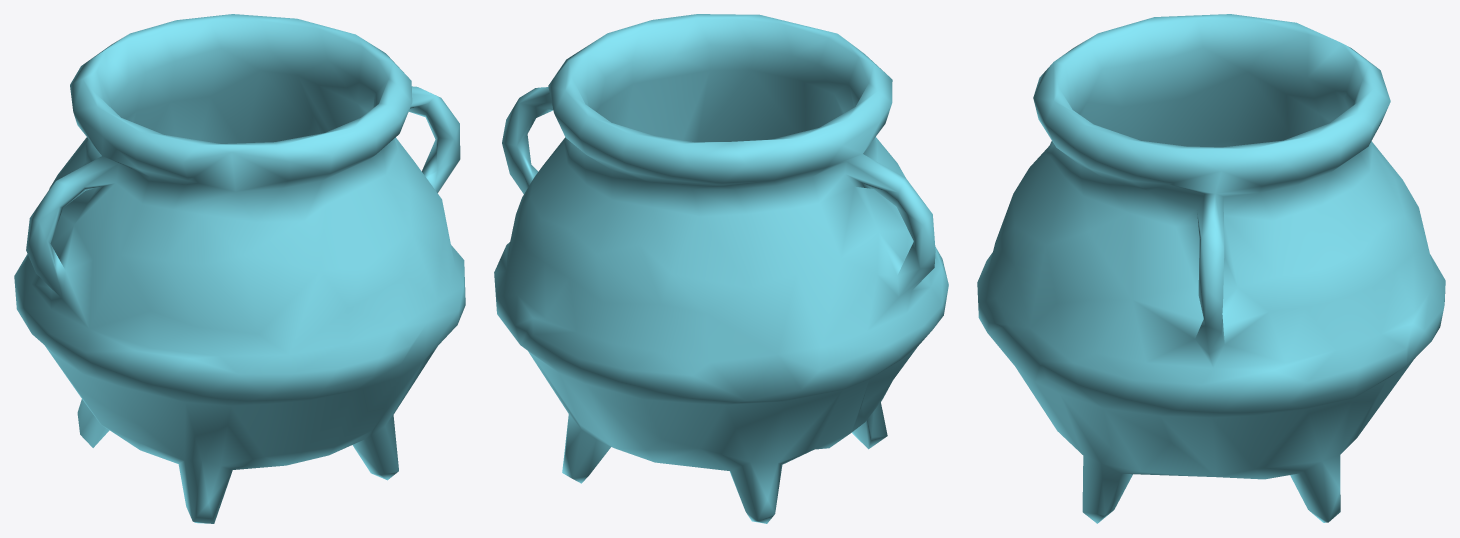
The model's file is MDungeon_Caldron.FBX.
3 renders of one model, left to right at view 1: azimuth 30°, elevation 25°; view 2: azimuth 150°, elevation 25°; view 3: azimuth 270°, elevation 25°, orthographic. The views are drawn at different scales.
Visible parts, largest first — view 1: MDungeon_Caldron_LOD0; view 2: MDungeon_Caldron_LOD0; view 3: MDungeon_Caldron_LOD0.
Boxes of the visible parts, x1,y1,x2,y2 form: MDungeon_Caldron_LOD0: (14, 14, 465, 523); MDungeon_Caldron_LOD0: (494, 14, 948, 523); MDungeon_Caldron_LOD0: (977, 14, 1445, 523).
Size of what is drawn, in the model's own units: 163 by 139 by 148.
